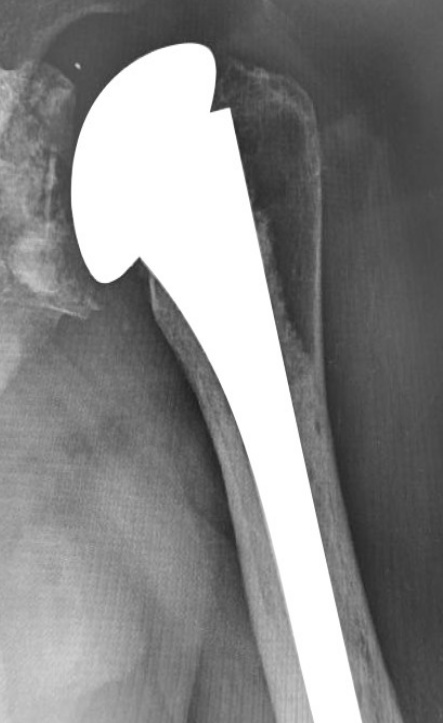Shoulder - Anotomyhead - Stryker: (52, 36, 235, 286)
Shoulder - Anotomytail - Stryker: (115, 91, 348, 532)
